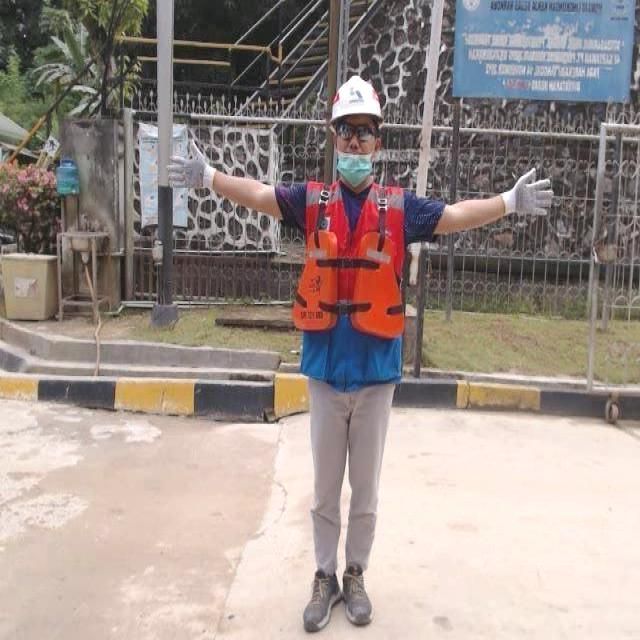vest: (292, 179, 407, 382)
